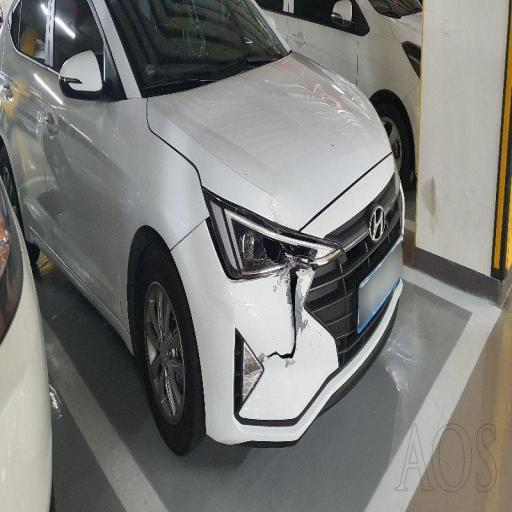broken: (174, 180, 365, 431)
